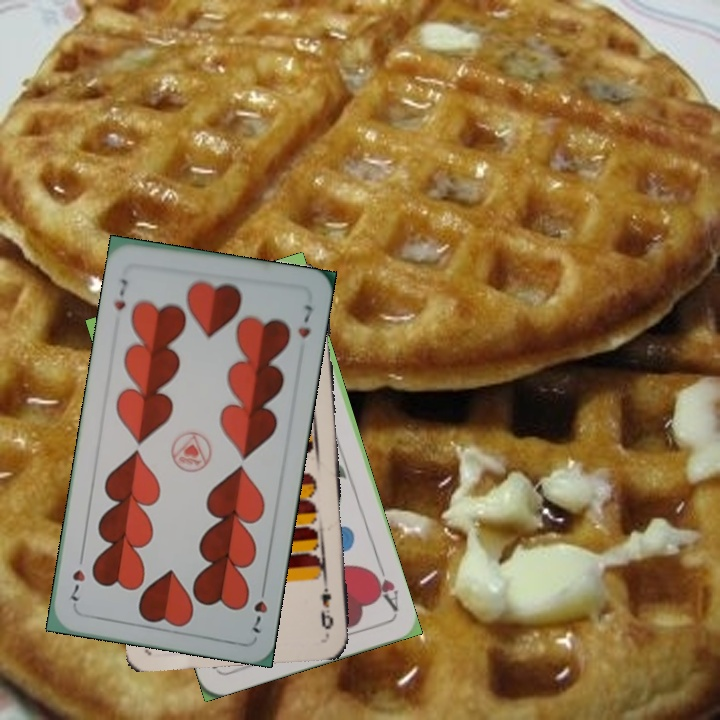E9: (317, 576, 336, 632)
H7: (248, 579, 270, 636), (110, 274, 131, 313)
HA: (366, 557, 401, 615)
